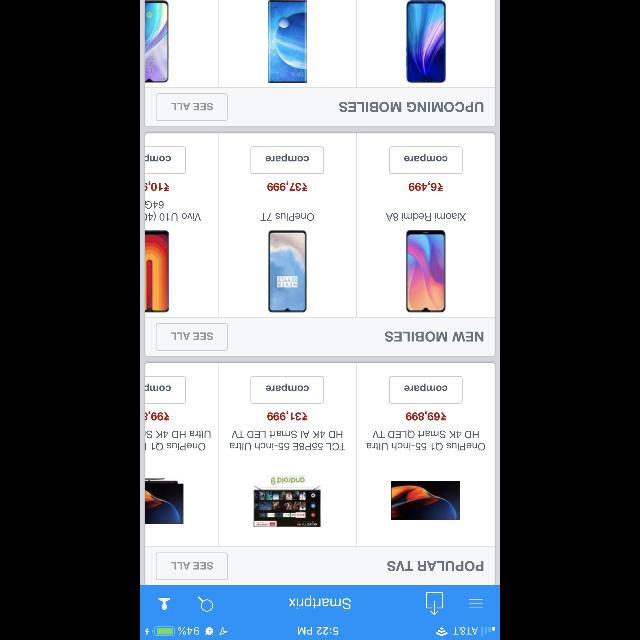icon: (426, 591, 442, 615), (198, 596, 212, 612), (158, 597, 170, 609), (468, 598, 482, 608)
image: (406, 230, 446, 312), (406, 1, 446, 83), (268, 230, 306, 312), (268, 1, 306, 83), (252, 485, 322, 527), (392, 482, 460, 520), (145, 0, 169, 84), (145, 230, 169, 312), (145, 478, 183, 524)
text: (366, 430, 486, 450), (229, 430, 345, 450), (339, 101, 483, 112), (146, 430, 210, 450), (387, 560, 483, 572), (146, 201, 200, 221), (385, 332, 483, 342), (289, 595, 351, 609), (386, 213, 466, 221), (260, 213, 314, 221), (406, 411, 446, 421), (267, 411, 307, 421), (267, 181, 307, 191), (409, 181, 443, 191), (145, 410, 169, 420), (145, 181, 169, 191), (271, 478, 305, 484)
textbutton: (250, 146, 324, 174), (389, 376, 463, 404), (250, 376, 324, 404), (156, 93, 228, 121), (390, 146, 462, 174), (156, 323, 228, 351), (156, 552, 228, 580), (146, 146, 187, 174), (146, 376, 187, 404)
uppertaskbar: (140, 626, 500, 640)
